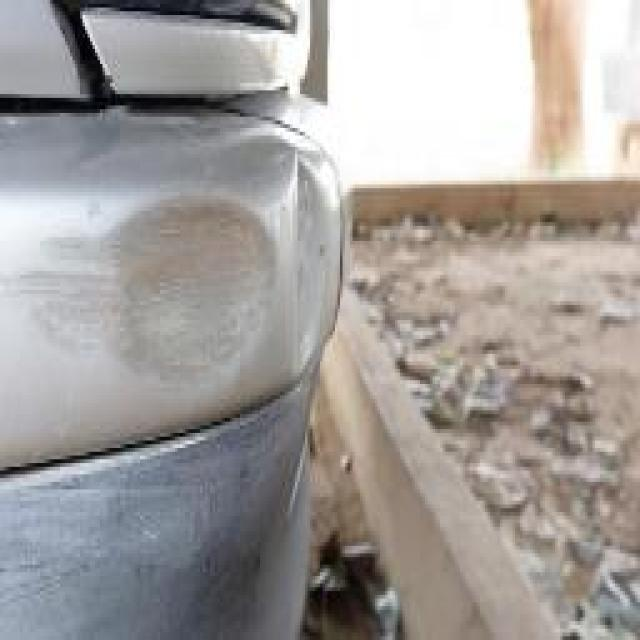Bumper: (0, 112, 365, 640)
Light: (0, 0, 326, 119)
